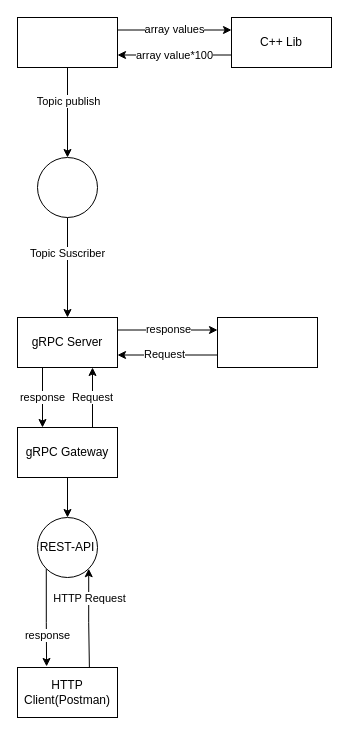
Image size: 349x735. Some labels were removed from this diagram. Each missing label, with the box of its shape:
/coords topic: (36, 156, 98, 218)
gRPC Client(py/C#): (216, 316, 318, 368)
Rospy node(coords and color detection): (16, 16, 118, 68)
